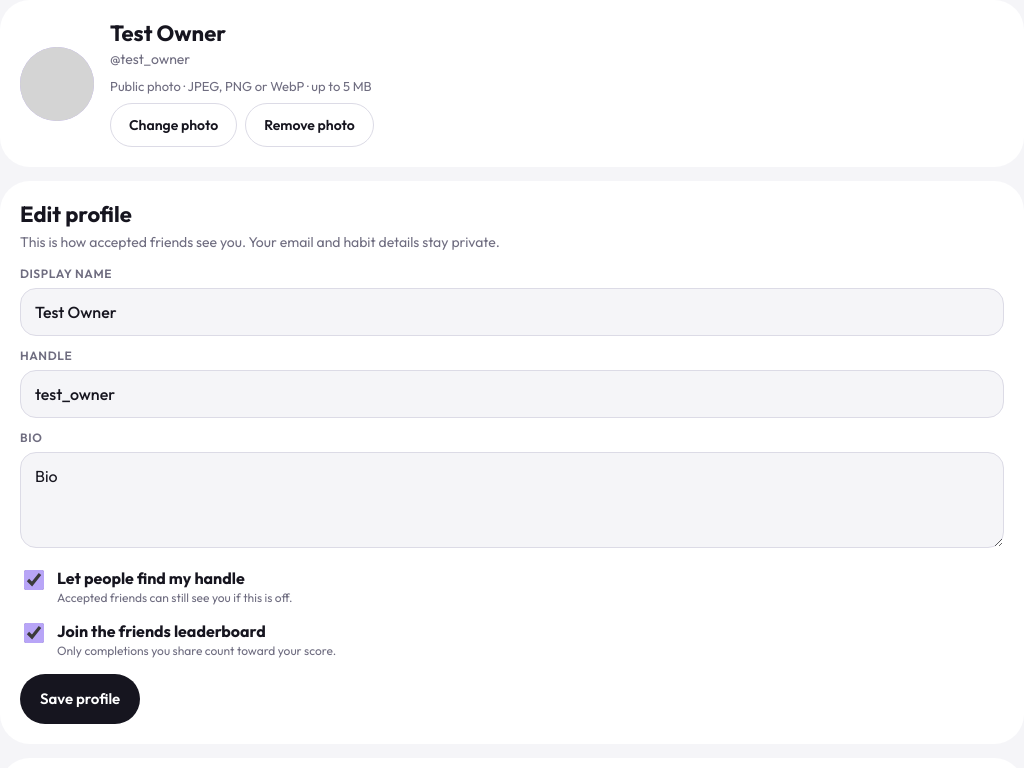
Test: profile avatar controls › removes a photo and immediately returns to the fallback
Expected: the element named "Profile photo" is shown, [110,77,374,147]
Click the button "Remove photo". click: (309, 125)
box: [245,103,374,147]
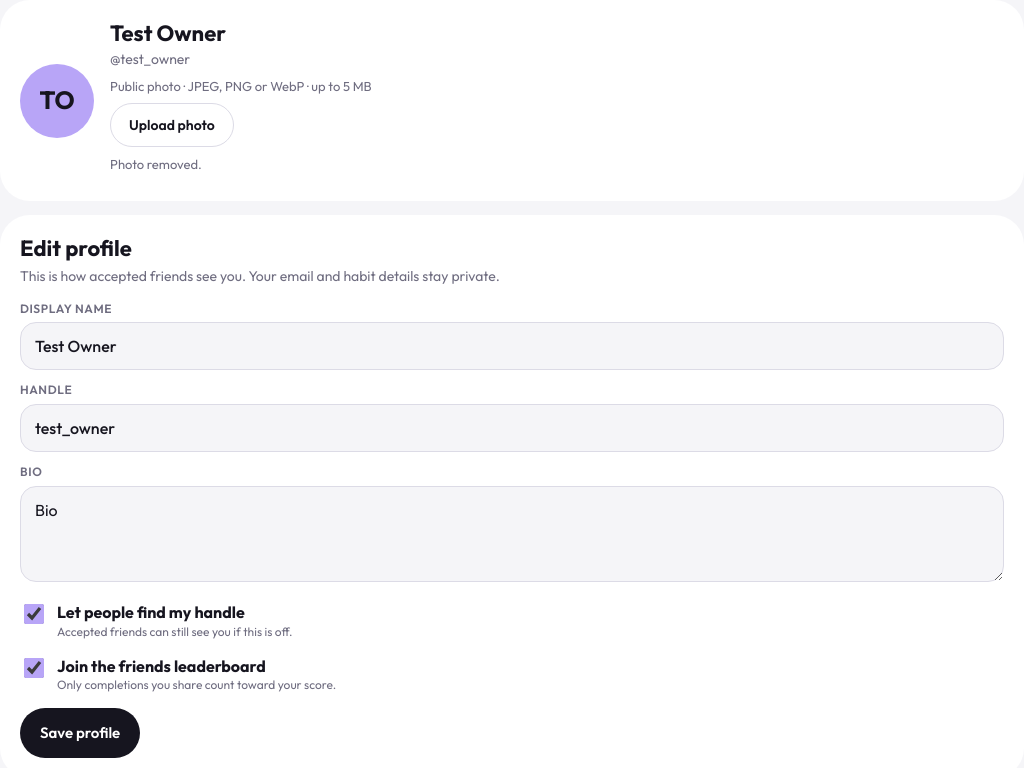
Expected: the text "Photo removed." is shown, [110,156,202,172]
Expected: the picture named "Test Owner's avatar" reads "TO", [39,84,75,116]
Expected: the button "Upload photo" is shown, [110,103,234,147]
